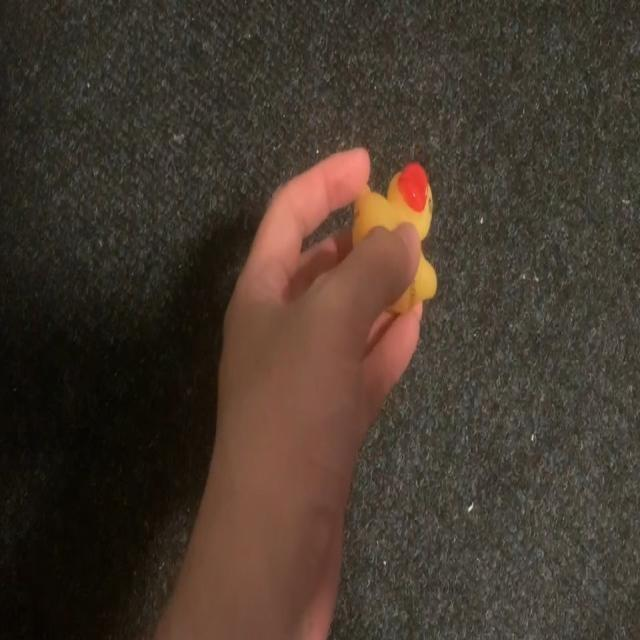rubber-duck: (351, 162, 430, 242), (390, 250, 435, 311)
